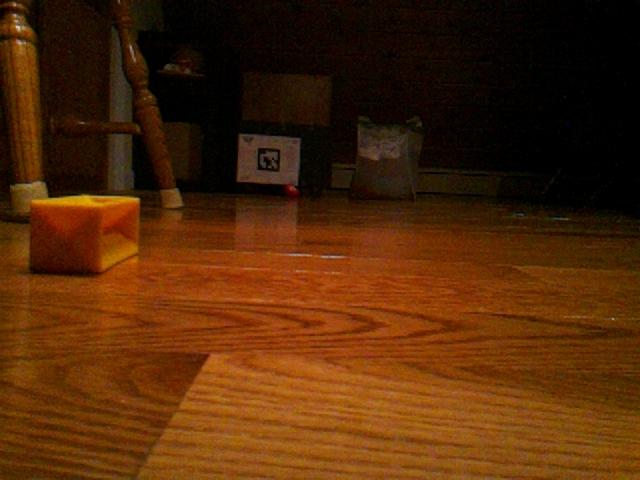yellow: (28, 194, 142, 275)
